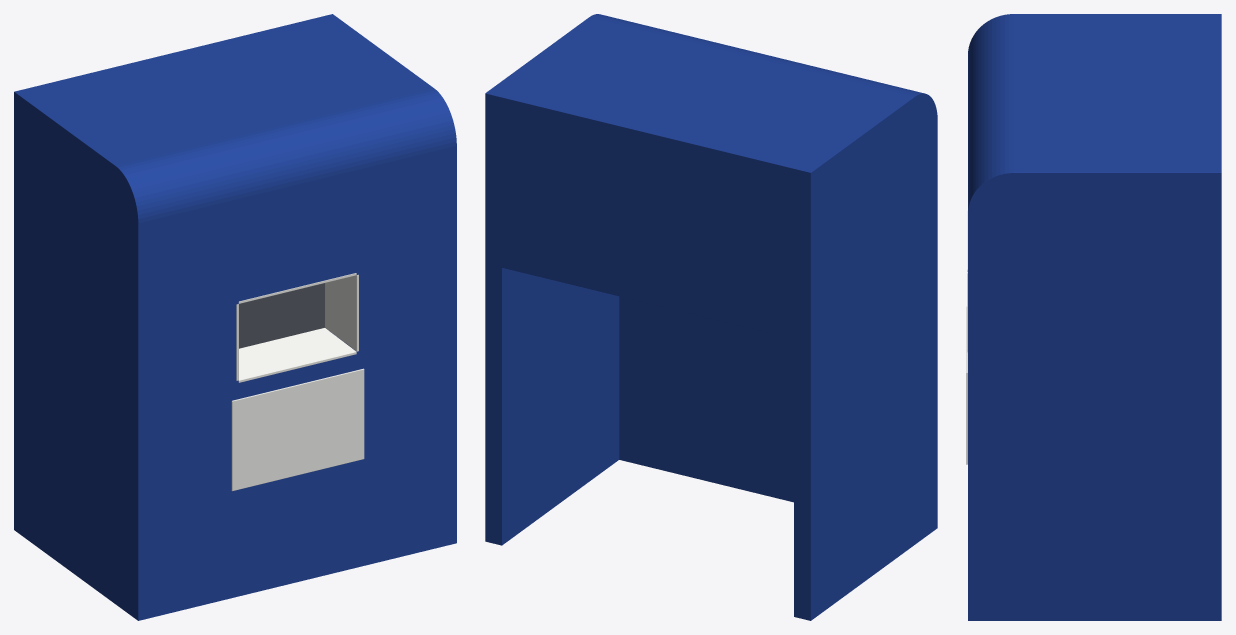
File: single-slot-return.glb
3 renders of one model, left to right at view 1: azimuth 30°, elevation 25°; view 2: azimuth 150°, elevation 25°; view 3: azimuth 270°, elevation 25°, orthographic. The views are drawn at different scales.
Visible parts, largest first — view 1: ChuteLaminate, ChuteSteel, ChuteReveal; view 2: ChuteLaminate; view 3: ChuteLaminate, ChuteSteel.
Part boxes in pixels (<box>): ChuteLaminate: <box>14,14,456,620</box>; ChuteSteel: <box>231,273,364,491</box>; ChuteReveal: <box>239,283,327,348</box>; ChuteLaminate: <box>485,14,937,620</box>; ChuteLaminate: <box>968,14,1221,620</box>; ChuteSteel: <box>966,210,967,464</box>.
Size of the model in its own units: 2.7 by 3.55 by 1.84.
